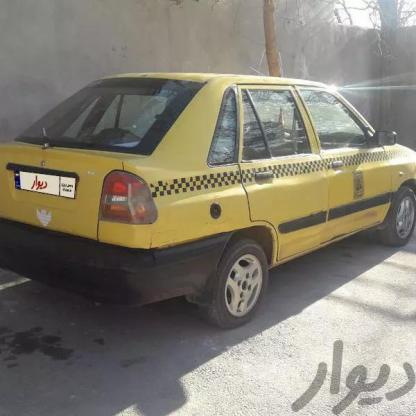Car: (0, 64, 416, 310)
